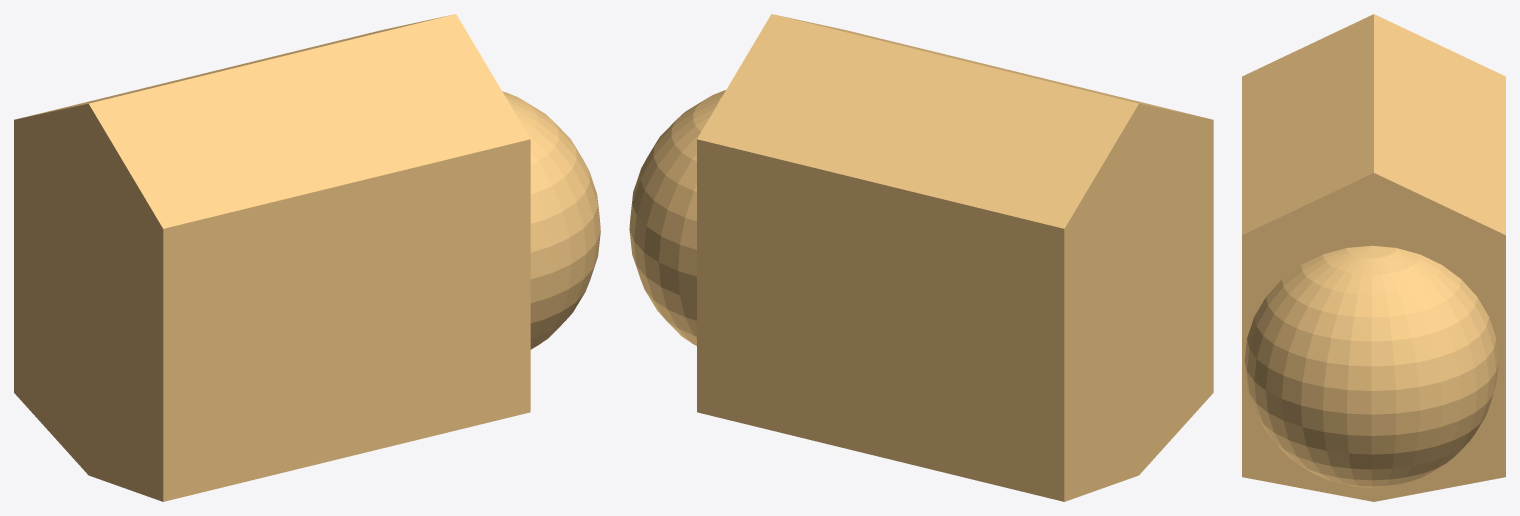
File: R_finger3.obj
3 renders of one model, left to right at view 1: azimuth 30°, elevation 25°; view 2: azimuth 150°, elevation 25°; view 3: azimuth 270°, elevation 25°, orthographic. The views are drawn at different scales.
Parts seen in each view (by area): view 1: finger3球.001_球.001; view 2: finger3球.001_球.001; view 3: finger3球.001_球.001.
Part boxes in pixels (x1,y1,x2,y2): finger3球.001_球.001: [14, 14, 600, 501]; finger3球.001_球.001: [629, 14, 1213, 501]; finger3球.001_球.001: [1242, 14, 1505, 501].
Bounding box in the file's own units: 0.6187 × 0.4468 × 0.3247.
